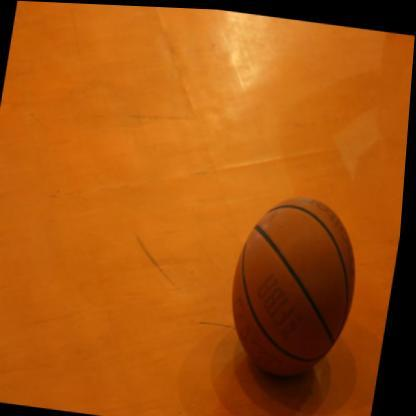basketball: (222, 186, 373, 385)
